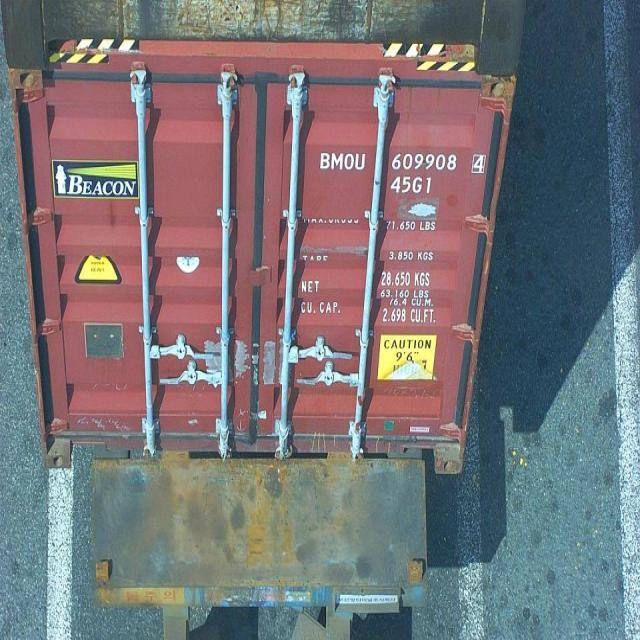ISO: (390, 176, 434, 196)
container_number: (324, 151, 488, 174)
